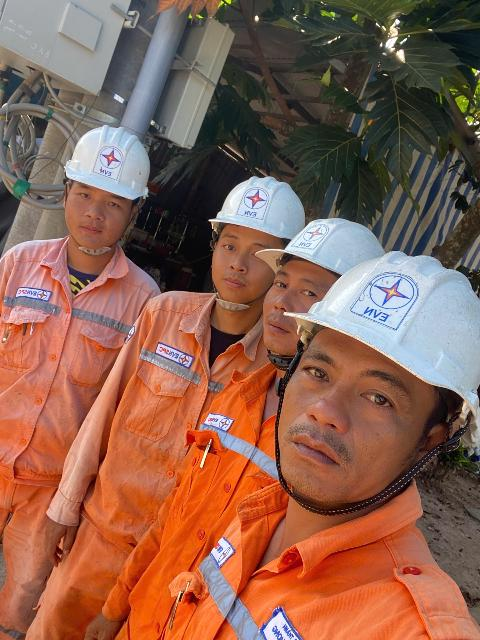helmet: (302, 217, 480, 419), (262, 192, 362, 279), (62, 118, 164, 203), (201, 164, 298, 245)
